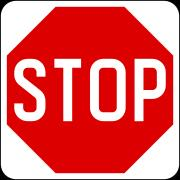Stop: (9, 10, 178, 165)
